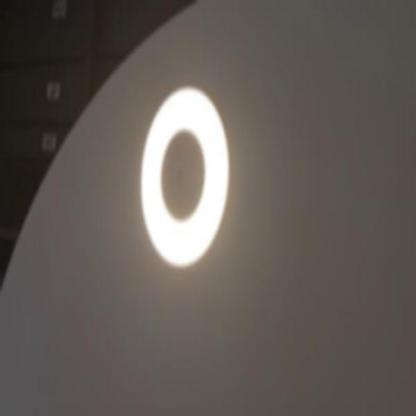light_on: (125, 70, 237, 286)
